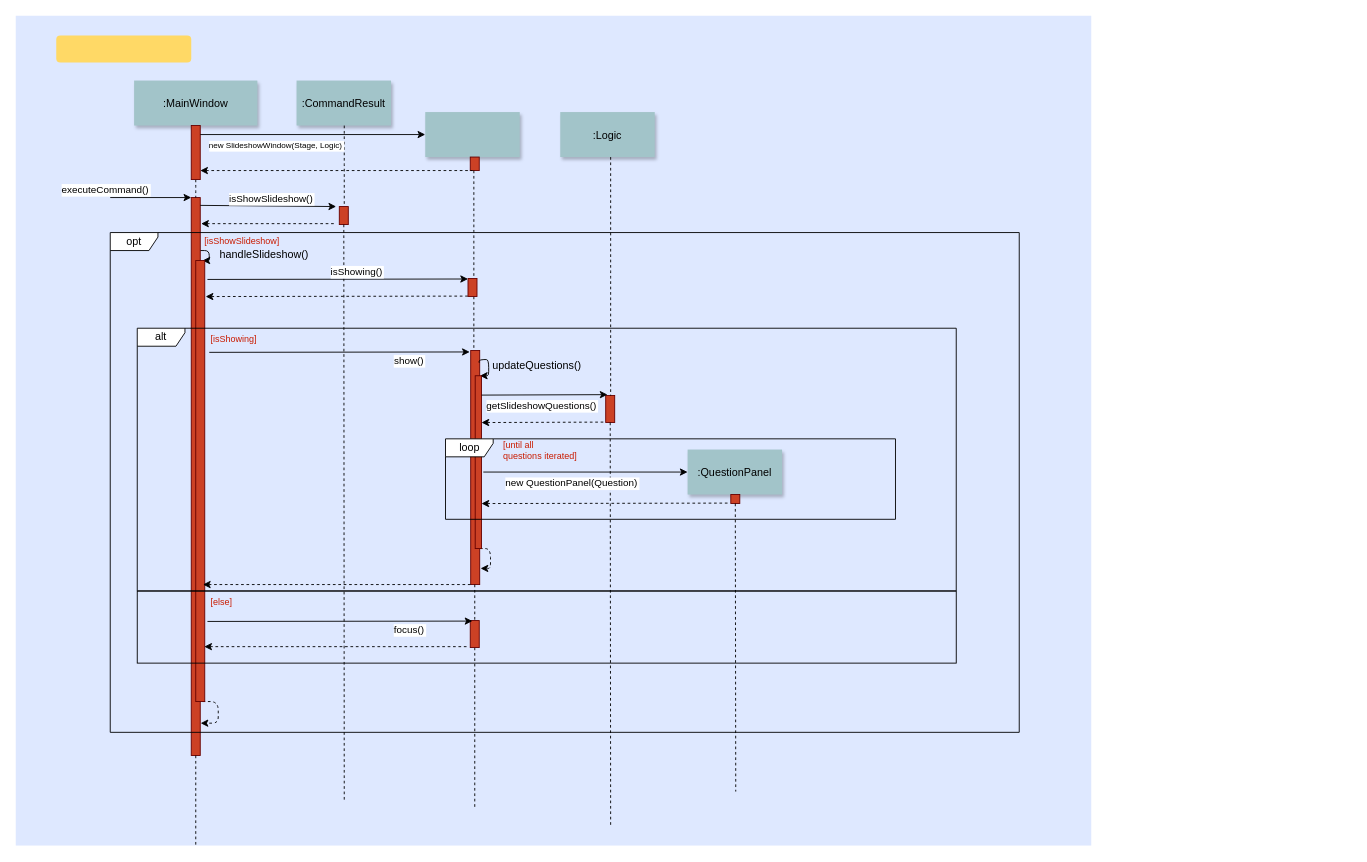
Image size: 1367x862. Some labels were removed from this diagram. The shapes that lost their labels are listed below. From the top down, each one's centre as x and y in pixels, then its label:
(x=123, y=48): Slideshow feature
(x=473, y=135): :SlideshowWindow
